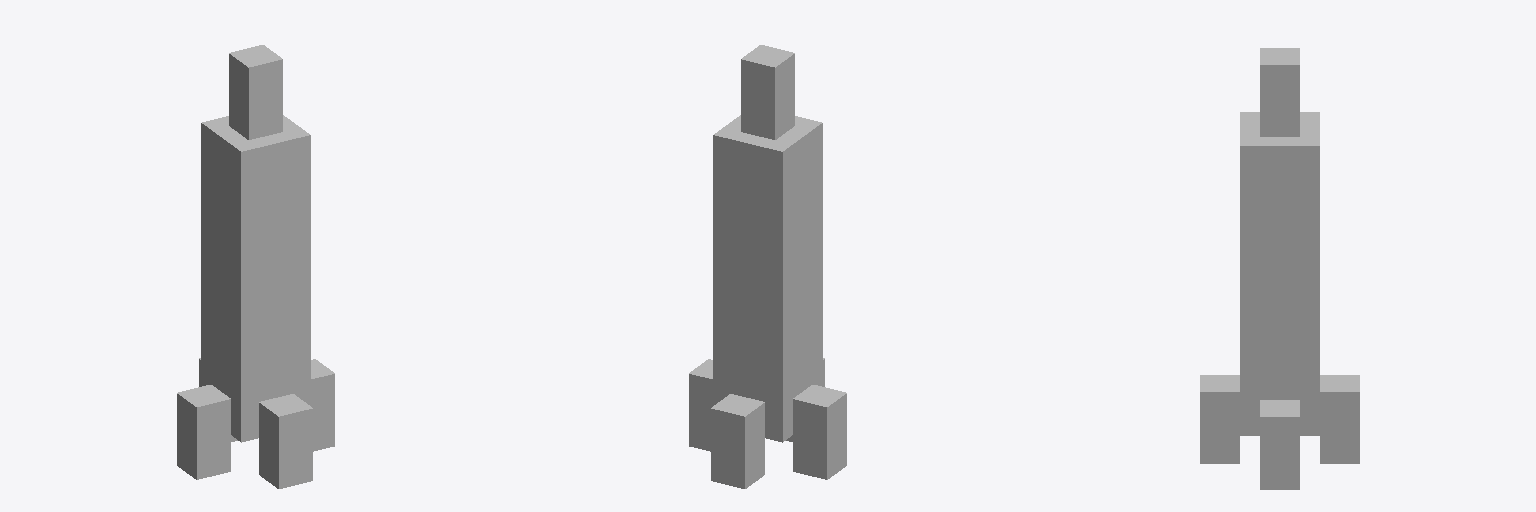
The model's file is moltronrocketitem.obj.
3 views of the same model, side by side, from view 1: azimuth 30°, elevation 25°; view 2: azimuth 150°, elevation 25°; view 3: azimuth 270°, elevation 25° (orthographic).
Parts seen in each view (by area): view 1: red, glass, iron; view 2: red, glass, iron; view 3: red, glass, iron.
Boxes of the visible parts, x1,y1,x2,y2 form: red: [177, 45, 334, 488]; glass: [201, 195, 310, 369]; iron: [201, 341, 310, 442]; red: [689, 45, 846, 488]; glass: [713, 195, 822, 369]; iron: [713, 341, 822, 442]; red: [1200, 48, 1359, 489]; glass: [1240, 218, 1319, 363]; iron: [1240, 364, 1319, 435].
Bounding box in the file's own units: 0.5 × 1.38 × 0.5.